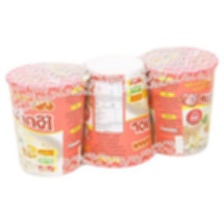paper_cup: (2, 56, 93, 181), (70, 47, 160, 171), (132, 40, 222, 160)
